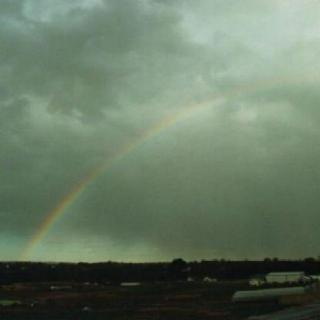Stratocumulus: (16, 0, 320, 248)
